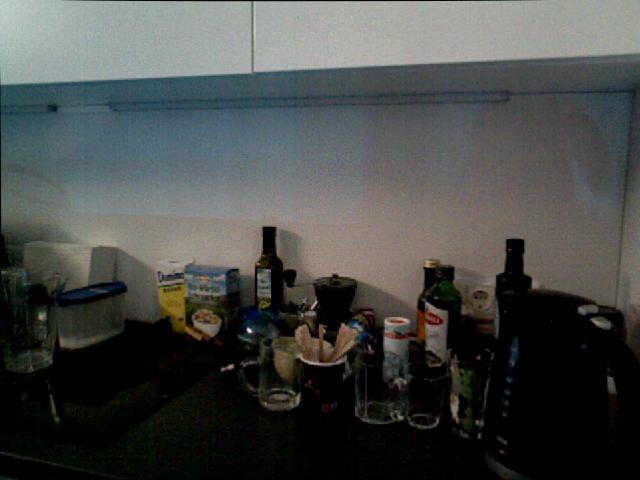bench: (424, 264, 462, 363), (494, 237, 532, 336), (254, 225, 284, 314), (415, 258, 440, 345)
bird: (187, 306, 227, 339)
handbag: (0, 241, 71, 385), (433, 340, 495, 439), (238, 335, 302, 411), (350, 346, 407, 428), (399, 360, 448, 429), (298, 346, 346, 415)
